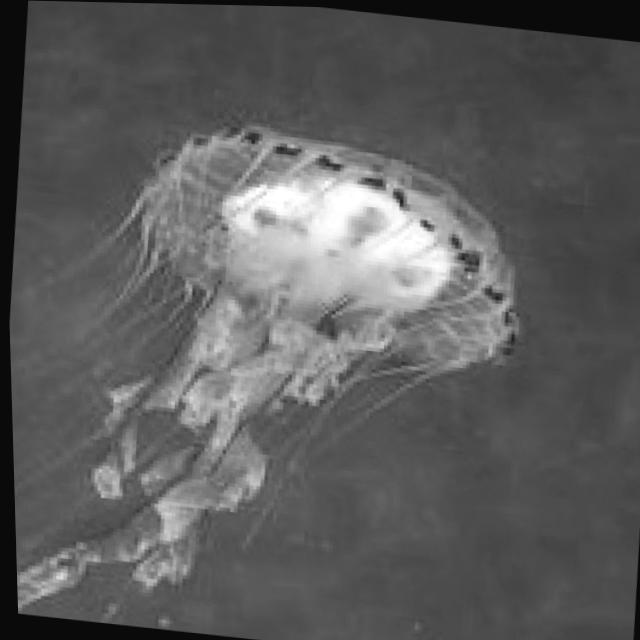Box-jellyfish: (2, 99, 538, 640)
